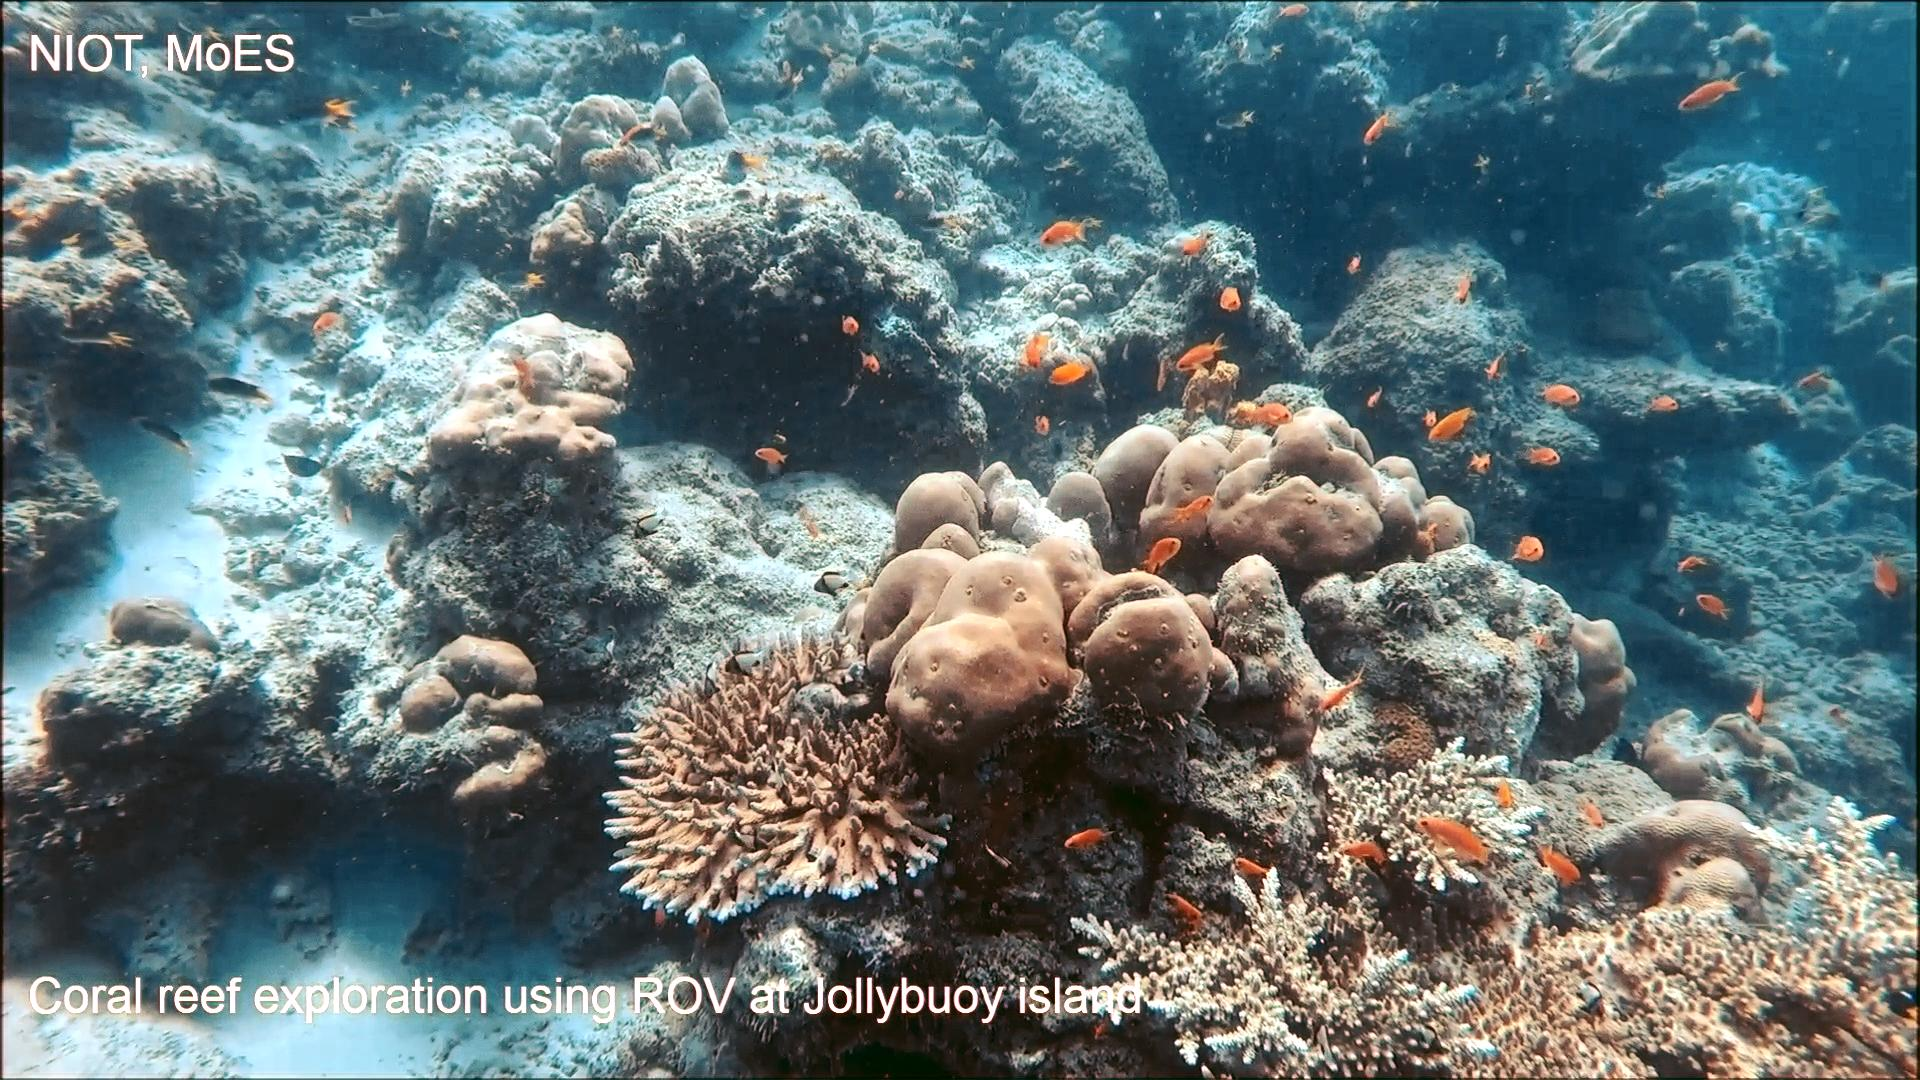Porites-Porites pukoensis: (856, 455, 1222, 758), (1084, 398, 1487, 575)
